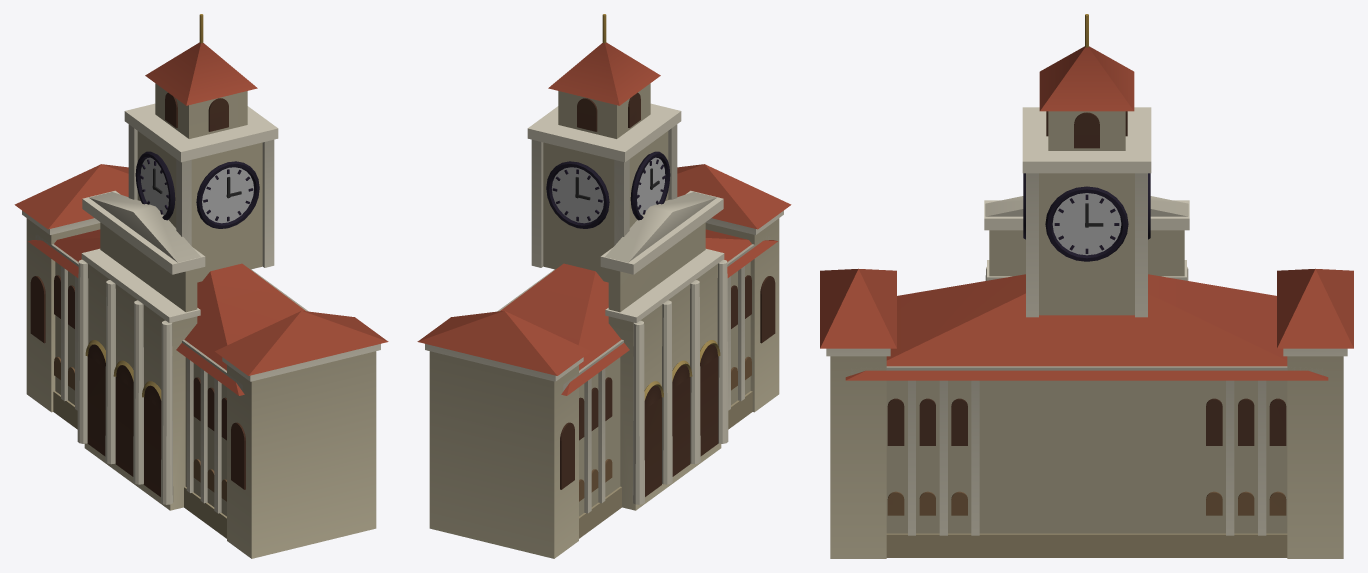
Rendered from lm-benthanh.glb.
3 views of the same model, side by side, from view 1: azimuth 30°, elevation 25°; view 2: azimuth 150°, elevation 25°; view 3: azimuth 270°, elevation 25° (orthographic). The views are drawn at different scales.
Size of the model in its own units: 3.88 by 10.95 by 10.4.
